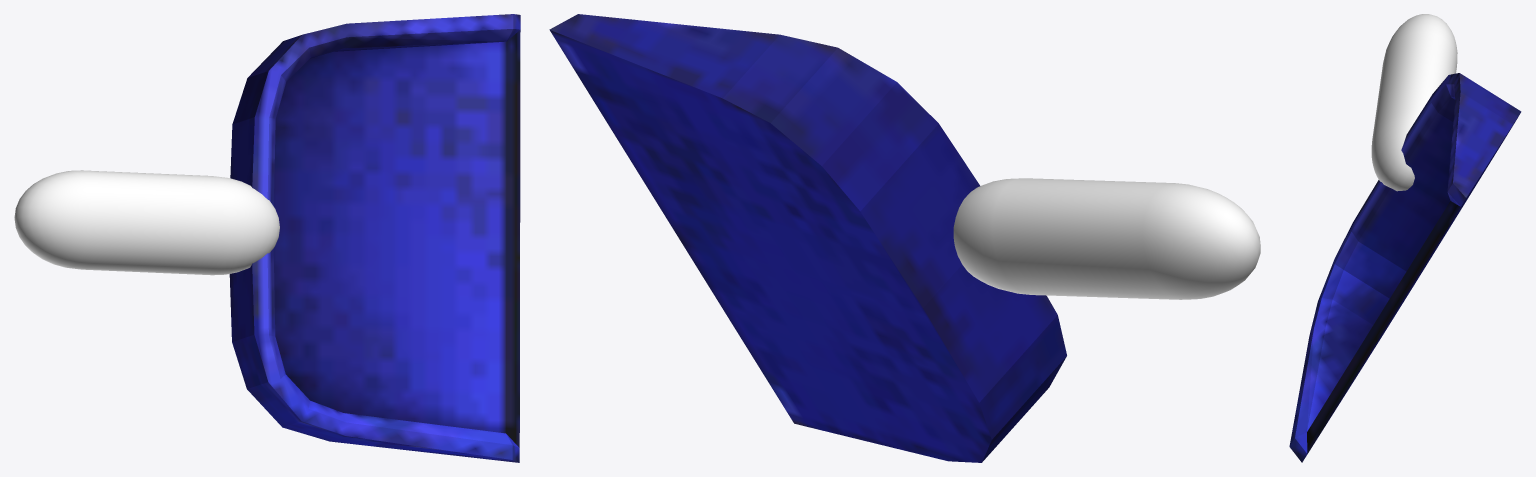
The model's file is DustpanAnchor.fbx.
3 views of the same model, side by side, from view 1: azimuth 30°, elevation 25°; view 2: azimuth 150°, elevation 25°; view 3: azimuth 270°, elevation 25° (orthographic). The views are drawn at different scales.
Visible parts, largest first — view 1: LMAEG_, DustPanInteractionPoint; view 2: LMAEG_, DustPanInteractionPoint; view 3: LMAEG_, DustPanInteractionPoint.
Part boxes in pixels (x1=…): LMAEG_: x1=229, y1=14, x2=520, y2=462; DustPanInteractionPoint: x1=14, y1=170, x2=279, y2=275; LMAEG_: x1=549, y1=14, x2=1066, y2=462; DustPanInteractionPoint: x1=953, y1=178, x2=1260, y2=299; LMAEG_: x1=1289, y1=73, x2=1521, y2=462; DustPanInteractionPoint: x1=1371, y1=14, x2=1457, y2=191.
Size of the model in its own units: 35.59 by 25.25 by 15.75.
